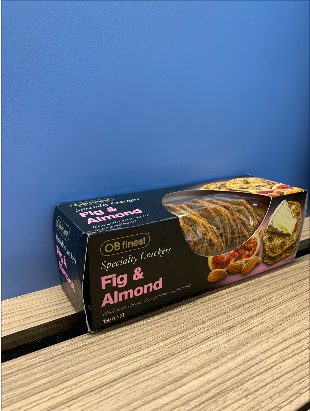Crackers_100-199g: (79, 198, 284, 285)
